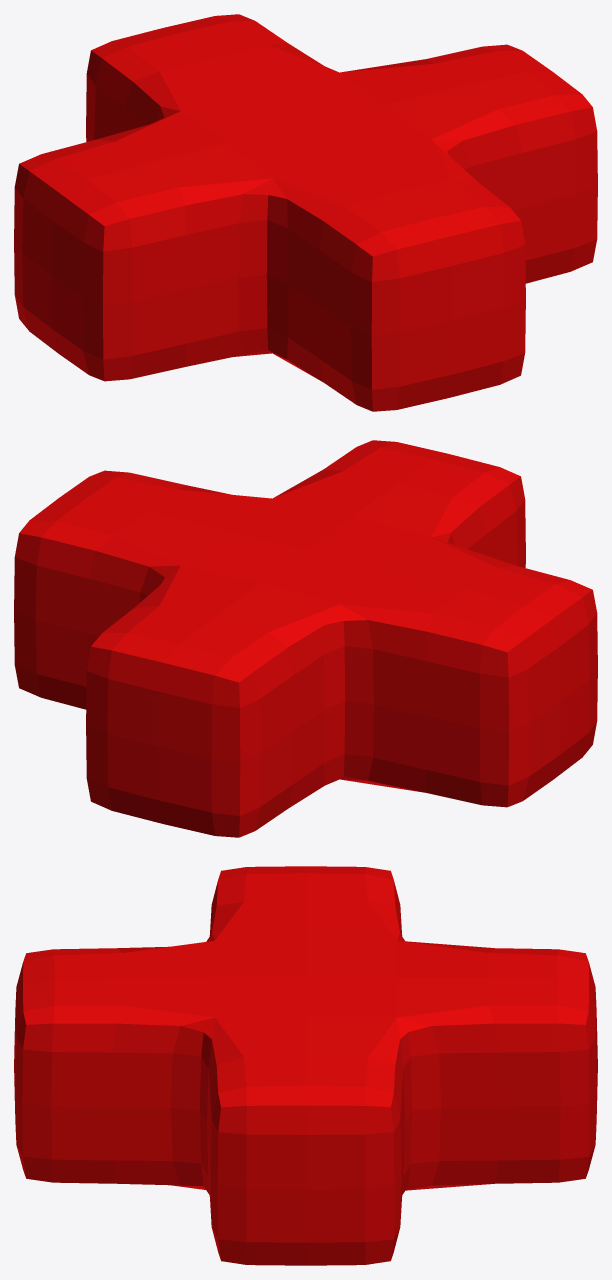
Rendered from Cross.fbx.
3 views of the same model, one above another, from view 1: azimuth 30°, elevation 25°; view 2: azimuth 150°, elevation 25°; view 3: azimuth 270°, elevation 25° (orthographic).
Visible parts, largest first — view 1: Cube; view 2: Cube; view 3: Cube.
Part boxes in pixels (x1,y1,x2,y2): Cube: [14, 14, 597, 411]; Cube: [14, 440, 597, 837]; Cube: [14, 866, 597, 1265].
Bounding box in the file's own units: 598 × 200 × 598.
